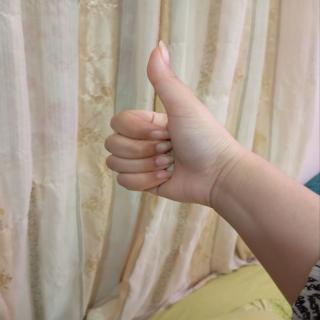ALIF: (96, 36, 240, 220)
